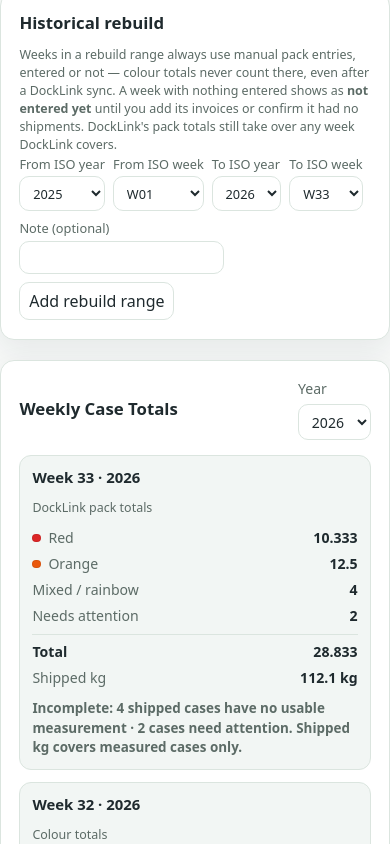
desktop Weekly Case Totals — from the shipped-yield calculation › switching the year loads that year's weeks
(page scrolled)
Step 1. Select "2025" in the dropdown labelled "Year" → (334, 422), box left=298, top=404, right=371, bottom=440
(page scrolled)
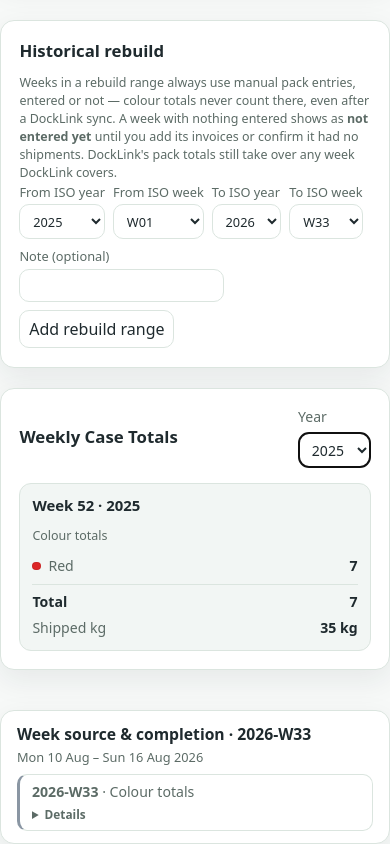
Expected: the heading "Week 52 · 2025" is shown, left=32, top=495, right=140, bottom=515
